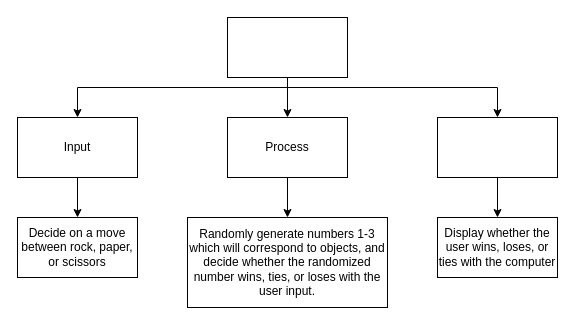
Image size: 575x325. Some labels were removed from this diagram. Each missing label, with the box of its shape:
Output: (436, 116, 558, 178)
Rock-Paper-Scissors: (226, 16, 348, 78)
